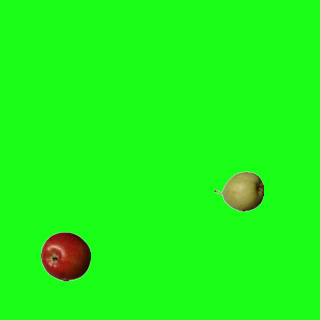Apple Braeburn: (40, 231, 90, 281)
Pear: (213, 166, 263, 216)
